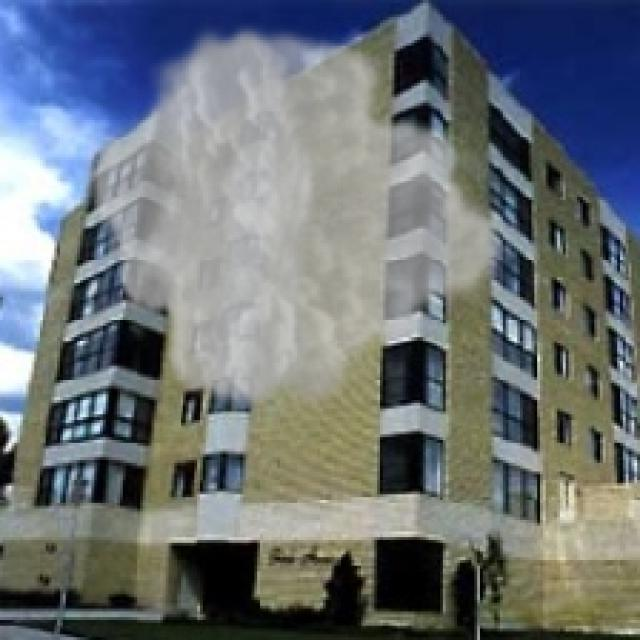Smoke: (86, 17, 512, 417)
